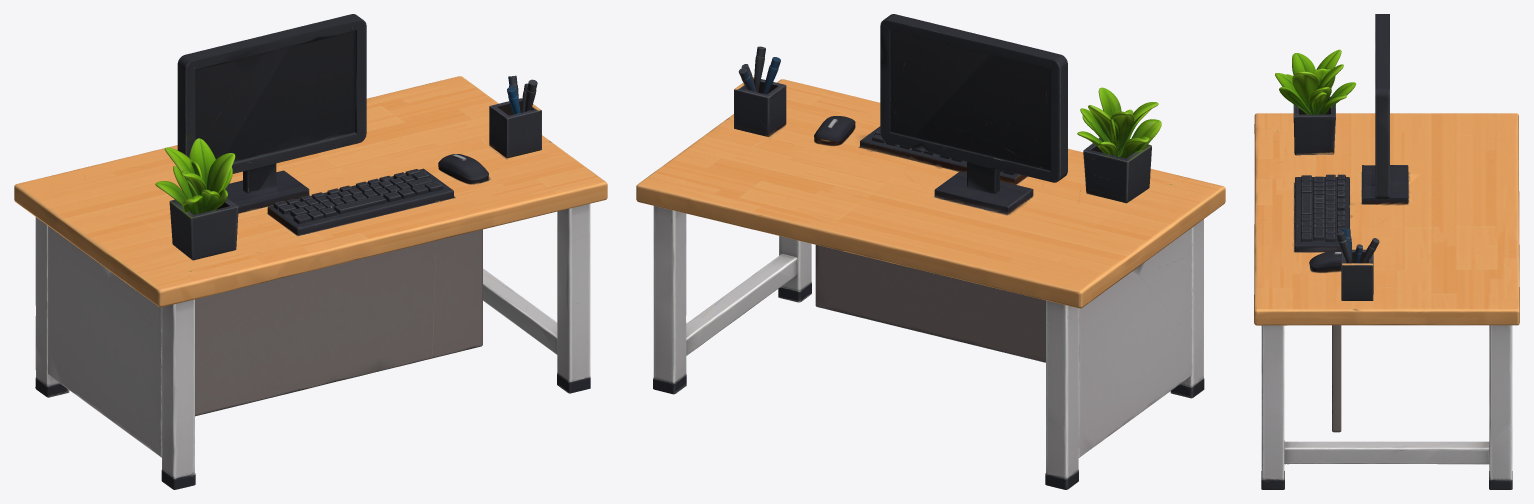
File: Office_Desk_with_Comp.glb
The picture shows the model from 3 angles, left to right: view 1: azimuth 30°, elevation 25°; view 2: azimuth 150°, elevation 25°; view 3: azimuth 270°, elevation 25°; orthographic projection. The views are drawn at different scales.
Bounding box in the file's own units: 1.9 × 1.47 × 1.08.
Materials: 1 (1 with a texture image).
